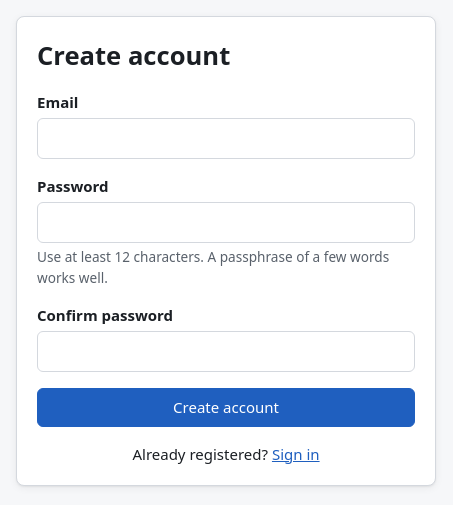
Test: RegisterPage › goes to /login?registered=1 on 201
The image size is (453, 505).
Type "new@example.com" into the field labelled "Email". click: (226, 139)
box: [37, 118, 415, 159]
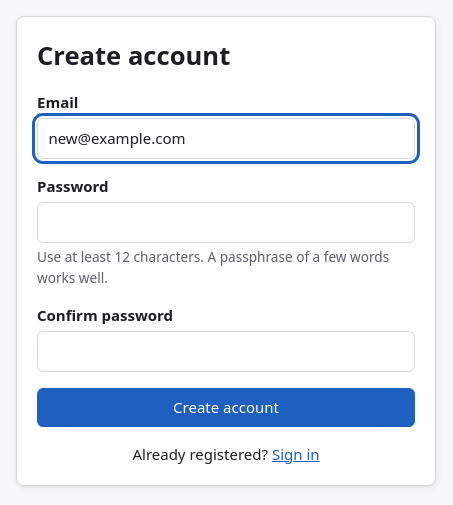
Type "a fine passphrase" into the password field labelled "Password". click: (226, 222)
box: [37, 202, 415, 243]
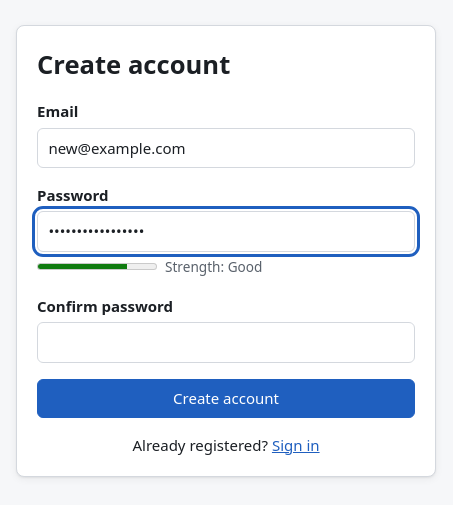
Type "a fine passphrase" into the password field labelled "Confirm password". click: (226, 343)
box: [37, 322, 415, 363]
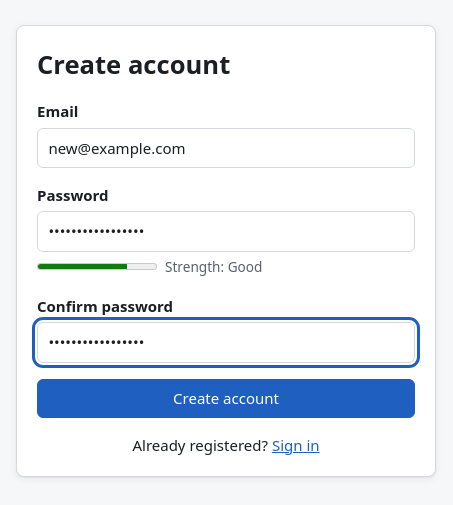
Click the button "Create account". click: (226, 398)
box: [37, 379, 415, 418]
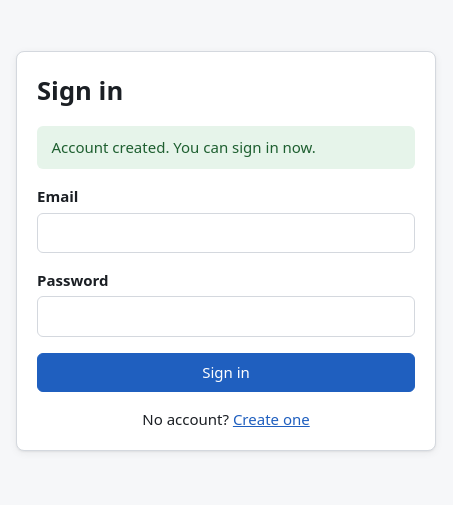
Now the text "Account created. You can sign in now." is shown, box [37, 126, 415, 169]
